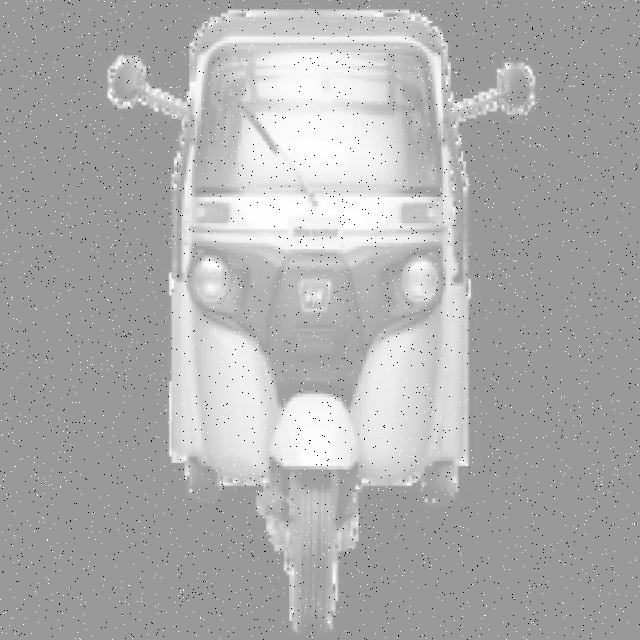Auto-Rickshaw: (106, 14, 539, 631)
